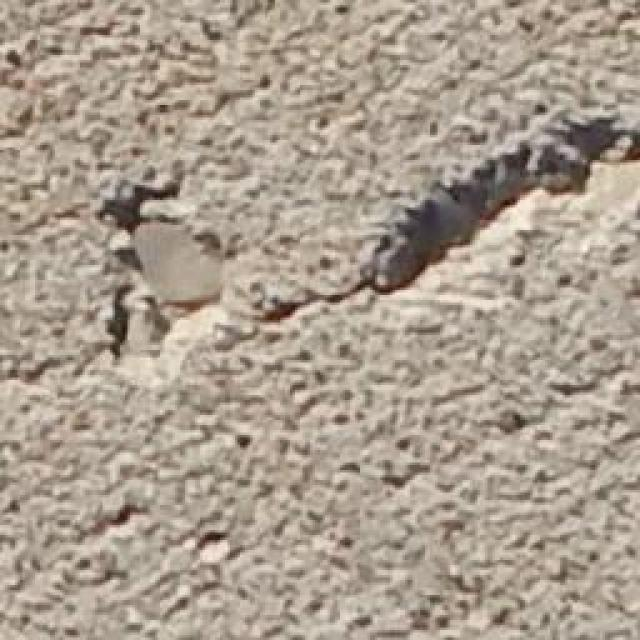concrete-crack: (243, 115, 640, 337), (88, 177, 188, 366)
